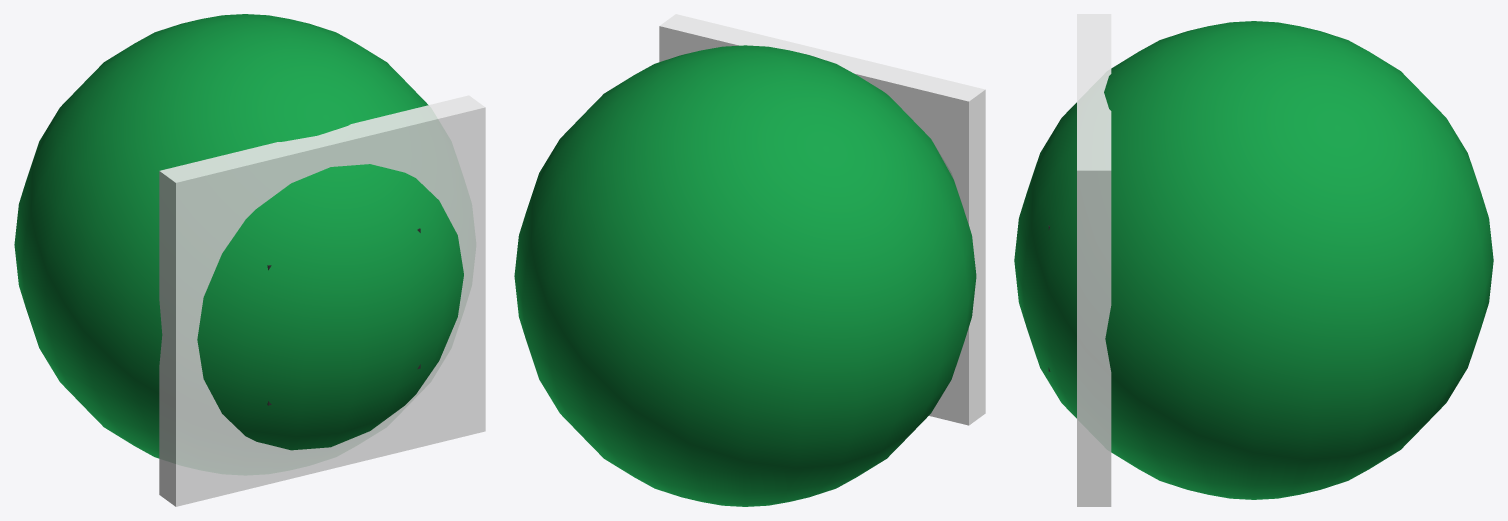
The model's file is electrical-outlet.glb.
3 renders of one model, left to right at view 1: azimuth 30°, elevation 25°; view 2: azimuth 150°, elevation 25°; view 3: azimuth 270°, elevation 25°, orthographic. The views are drawn at different scales.
Visible parts, largest first — view 1: electrical-outlet; view 2: electrical-outlet; view 3: electrical-outlet.
Part boxes in pixels (left/top/right/bottom): electrical-outlet: left=14, top=14, right=485, bottom=506; electrical-outlet: left=514, top=14, right=985, bottom=506; electrical-outlet: left=1014, top=14, right=1493, bottom=506.
Bounding box in the file's own units: 0.84 × 0.84 × 0.84.
